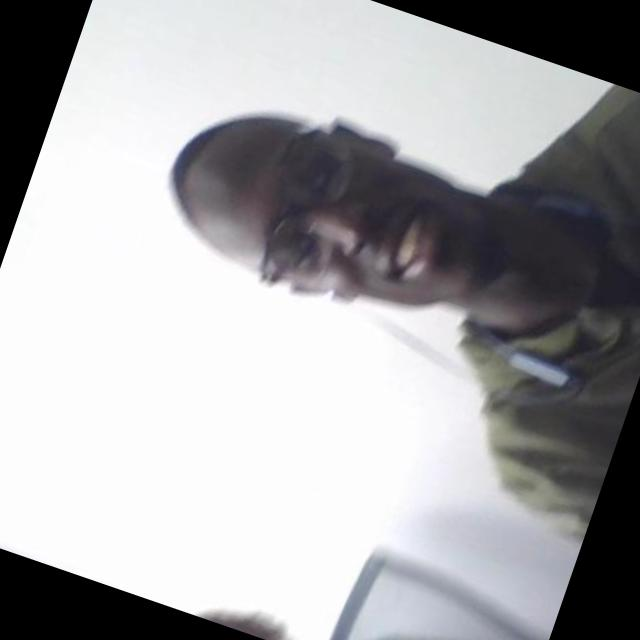bareface: (173, 98, 504, 333)
